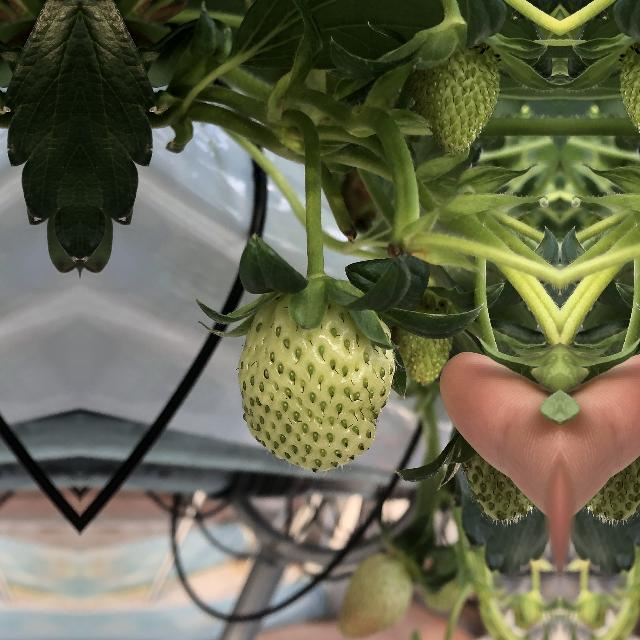Health_25: (240, 281, 392, 474), (408, 37, 502, 156), (618, 37, 640, 156)
